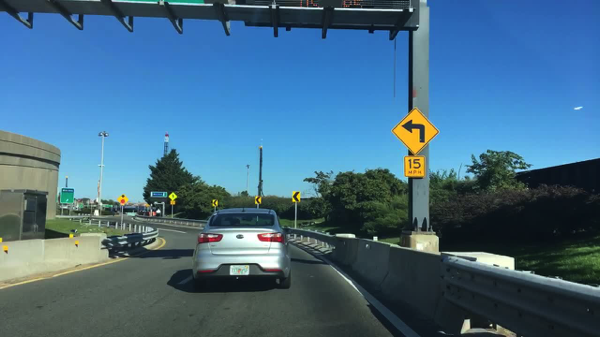car: (190, 205, 294, 291), (147, 210, 158, 217), (139, 209, 146, 217)
traffic sign: (110, 1, 418, 12), (389, 107, 439, 156), (403, 156, 425, 177), (60, 187, 74, 204), (117, 194, 129, 208), (292, 191, 301, 204), (151, 191, 167, 198), (169, 191, 178, 201), (254, 194, 262, 205), (211, 199, 220, 207), (101, 205, 113, 209), (169, 201, 177, 206), (79, 202, 84, 208)
